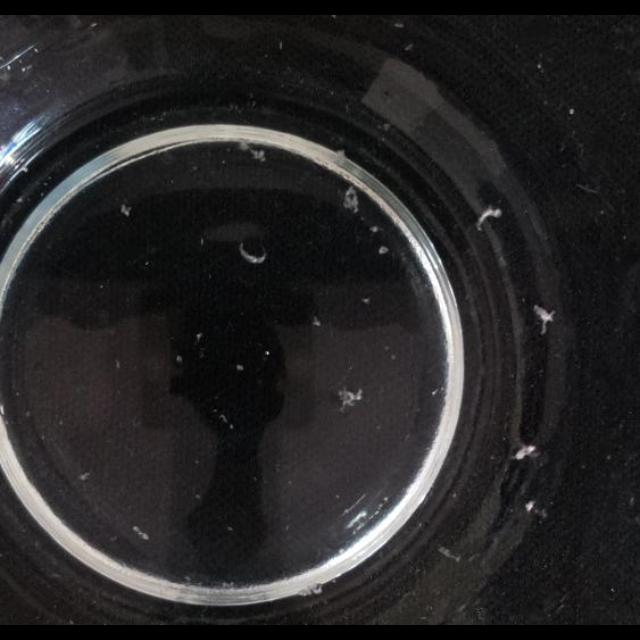Fibre: (337, 386, 363, 414), (533, 306, 555, 334), (476, 207, 500, 230), (342, 187, 360, 213), (248, 147, 266, 163), (120, 204, 132, 216)
microbeads: (514, 445, 536, 461), (132, 526, 150, 540), (308, 584, 322, 596), (524, 501, 534, 513), (78, 471, 90, 481), (312, 316, 321, 326), (432, 386, 441, 396), (220, 414, 228, 424), (194, 332, 202, 342), (362, 297, 371, 305), (236, 364, 244, 372), (176, 355, 184, 363), (194, 492, 202, 500), (115, 359, 121, 369), (228, 422, 234, 430), (226, 526, 234, 532), (537, 63, 543, 71), (568, 108, 574, 115), (264, 350, 270, 356)
